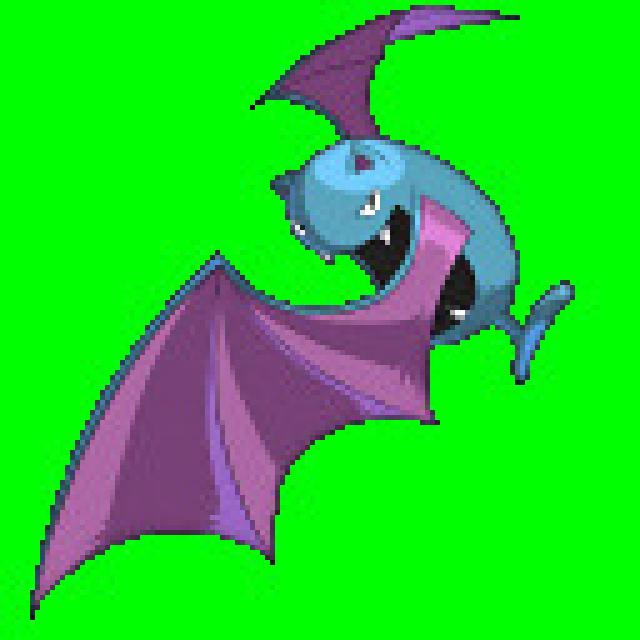Golbat: (246, 4, 581, 417)
